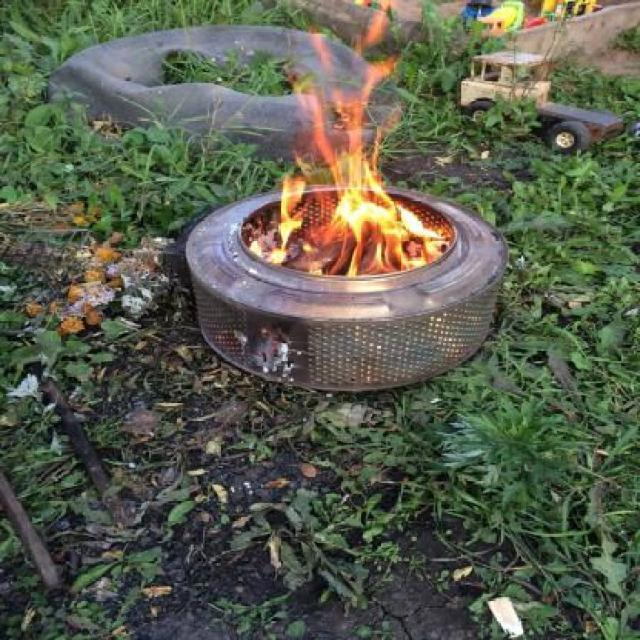fire: (332, 153, 408, 274), (281, 173, 305, 244)
